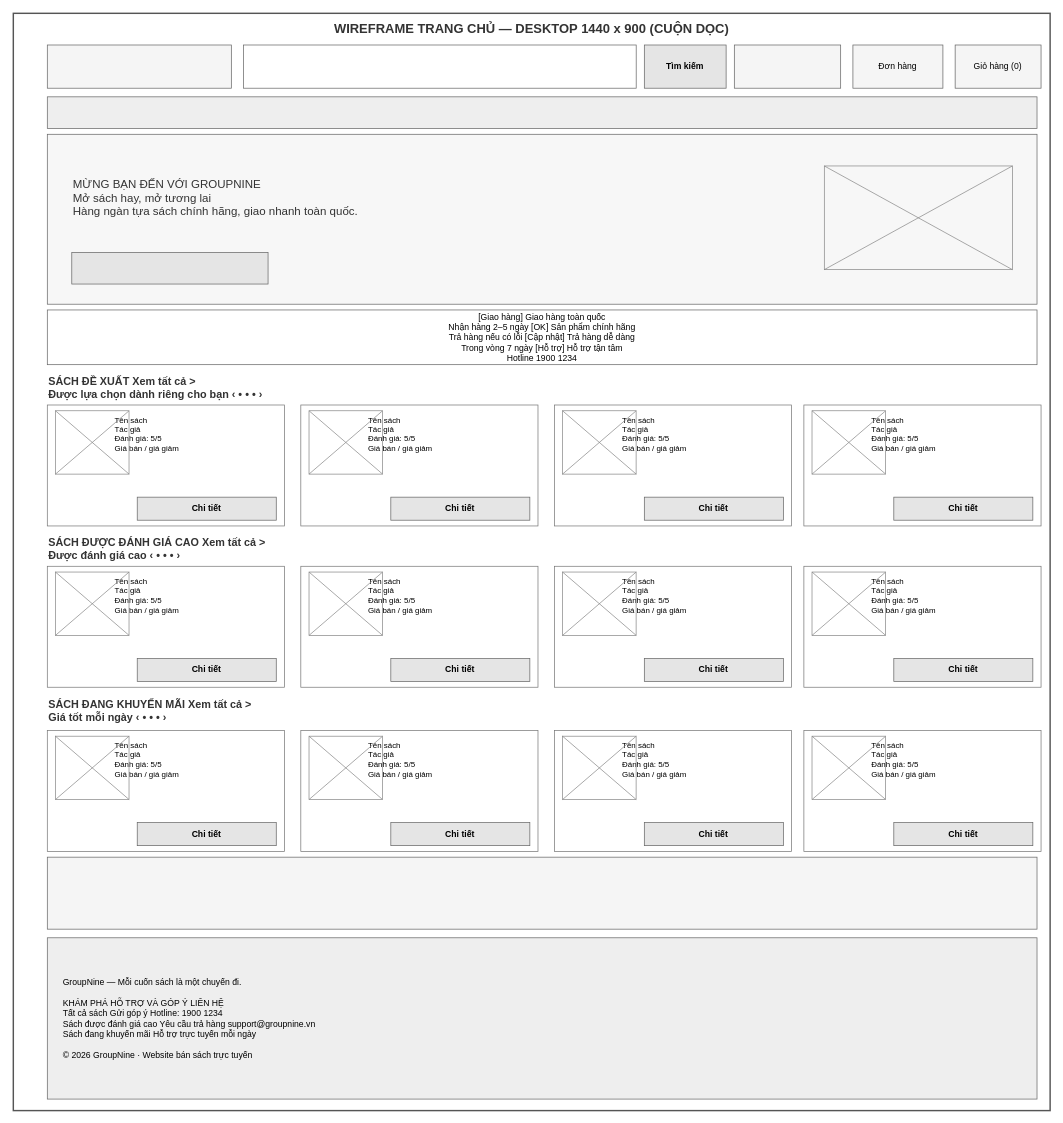
The diagram is 1063 pixels wide and 1123 high, and some of its shapes have lost their labels. The shapes that lost their labels are listed below. From the top down, each one's centre as x and y in pixels, then its label:
At pixel 139 66: "Logo GroupNine".
At pixel 439 66: "Tìm kiếm sách, tác giả, ISBN...".
At pixel 787 66: "Tài khoản Đăng nhập".
At pixel 542 112: "[Menu] DANH MỤC SÁCH | Sách mới | Được đánh giá cao | Sách đang khuyến mãi".
At pixel 169 268: "Mua sách ngay".
At pixel 542 892: "“ Mỗi cuốn sách là một chuyến đi. ” — GroupNine".
